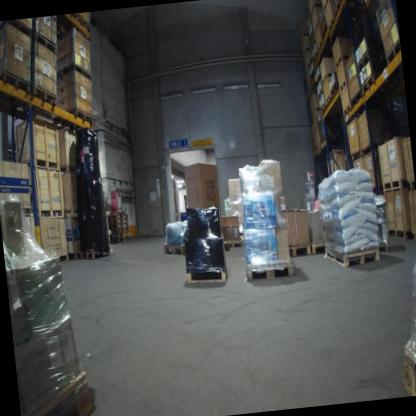pallet: (17, 366, 96, 416), (323, 242, 382, 270), (244, 258, 296, 282), (185, 260, 228, 286), (55, 60, 92, 84), (0, 70, 31, 97), (0, 18, 33, 42), (23, 154, 61, 174), (32, 29, 58, 57), (31, 82, 58, 108), (67, 104, 94, 125), (383, 37, 402, 66), (35, 205, 67, 221), (359, 72, 381, 95), (355, 49, 375, 74), (71, 12, 91, 34), (386, 224, 411, 241), (288, 241, 311, 259), (105, 209, 114, 255), (162, 241, 186, 258), (381, 178, 408, 193), (84, 246, 110, 259), (312, 20, 323, 50), (347, 87, 362, 106), (221, 238, 244, 250), (361, 142, 378, 158), (59, 162, 79, 175), (309, 241, 326, 256), (334, 54, 350, 69), (309, 2, 323, 17), (64, 207, 83, 218), (332, 0, 342, 19), (321, 71, 333, 86), (68, 250, 84, 261), (326, 15, 336, 32), (351, 147, 363, 161), (341, 103, 352, 118), (329, 81, 339, 97), (339, 78, 348, 95), (21, 204, 33, 216), (110, 211, 128, 219), (111, 221, 129, 229), (112, 236, 131, 243), (322, 0, 334, 11), (110, 216, 128, 223), (112, 231, 130, 238), (313, 74, 322, 87), (311, 49, 319, 63), (323, 91, 331, 104), (112, 227, 129, 233), (59, 254, 69, 264), (319, 101, 326, 114), (317, 87, 324, 100), (311, 106, 320, 114), (319, 135, 325, 144), (313, 123, 319, 130), (316, 141, 321, 148), (313, 144, 317, 151)
